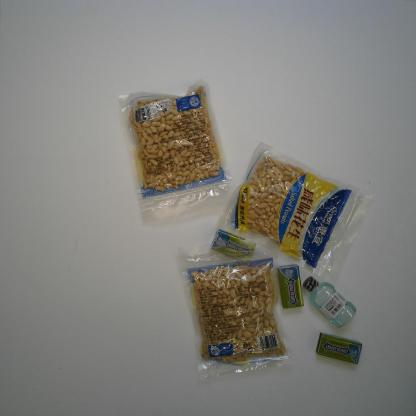Dried Fruit: (214, 139, 374, 283), (117, 78, 234, 216), (179, 248, 296, 378)
Gum: (315, 331, 362, 365), (210, 229, 256, 262), (276, 264, 304, 310)
Personal Hygiene: (302, 275, 357, 329)
